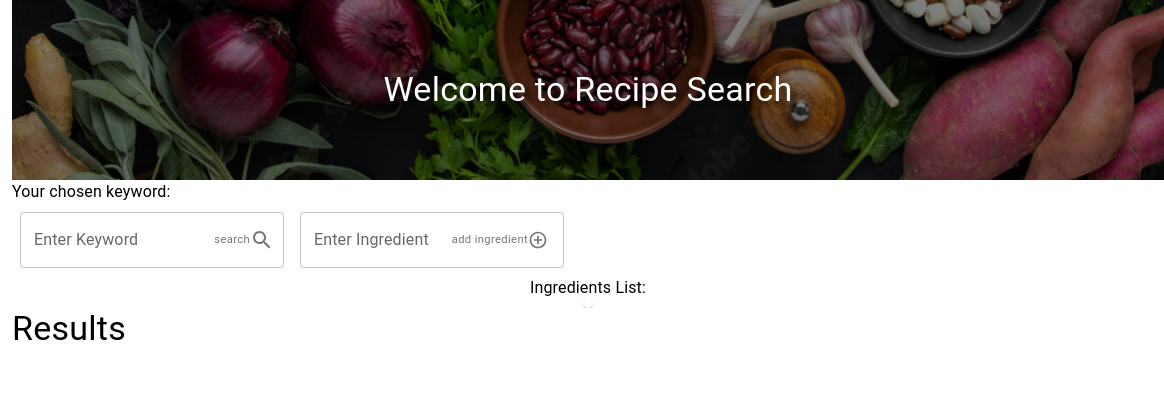
Test case: RecipeSearchPage component › should remove selected ingredient from ingredient list
Expected: the button with test id "add-ingredient-button" is shown, [447, 225, 553, 255]
Type "Tomato" into the field labelled "Enter Ingredient" at (369, 240), box [300, 212, 439, 268]
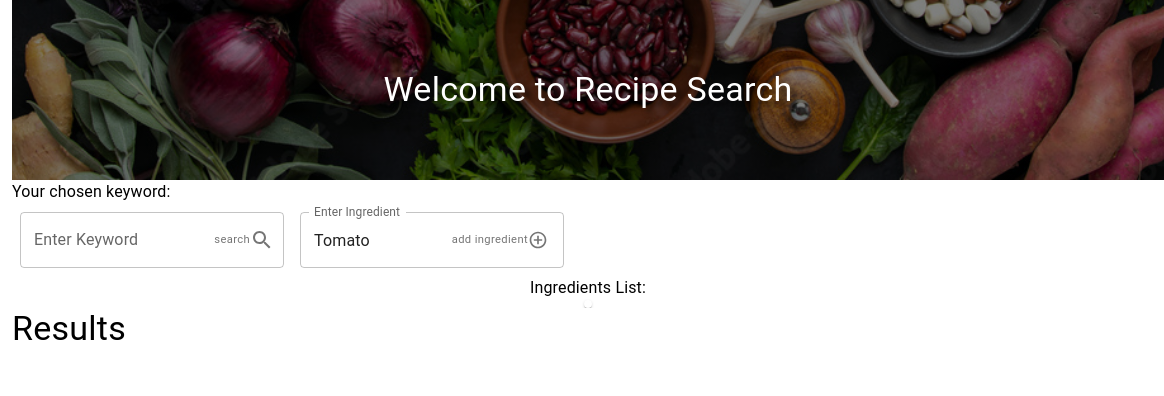
Click the button with test id "add-ingredient-button" at (500, 240), box [447, 225, 553, 255]
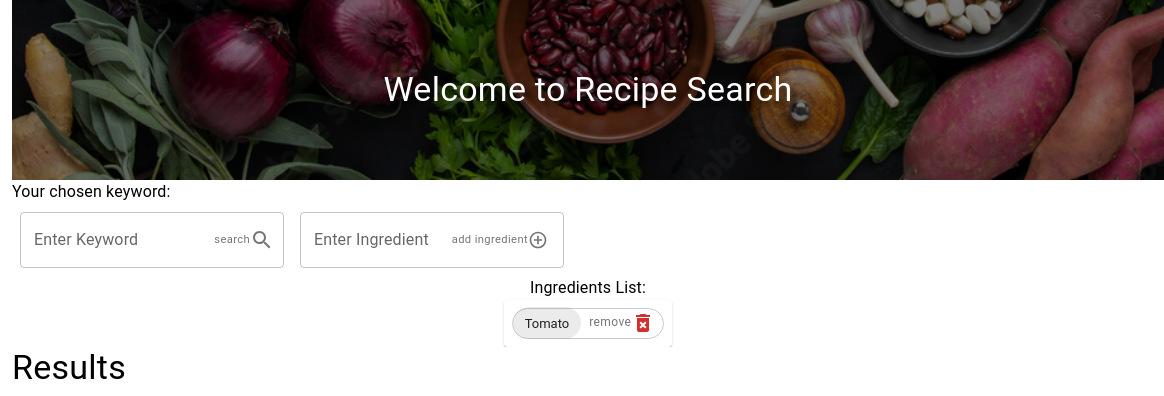
Now the element with test id "ingredients" shows "Tomato", box [525, 316, 569, 331]
Now the button with test id "remove-ingredient" is shown
Click the button with test id "remove-ingredient" at (622, 323), box [581, 309, 663, 338]
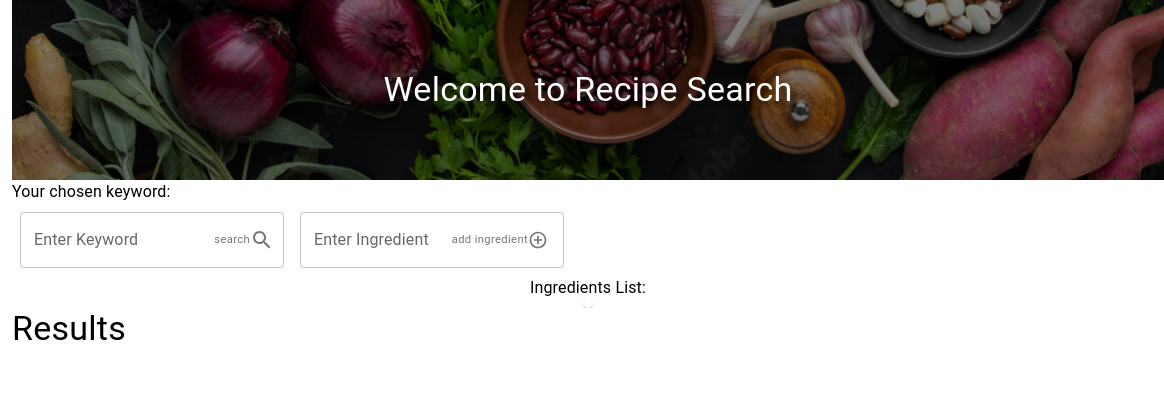
Now the element with test id "ingredients" no longer shows "Tomato", box [530, 278, 646, 308]
